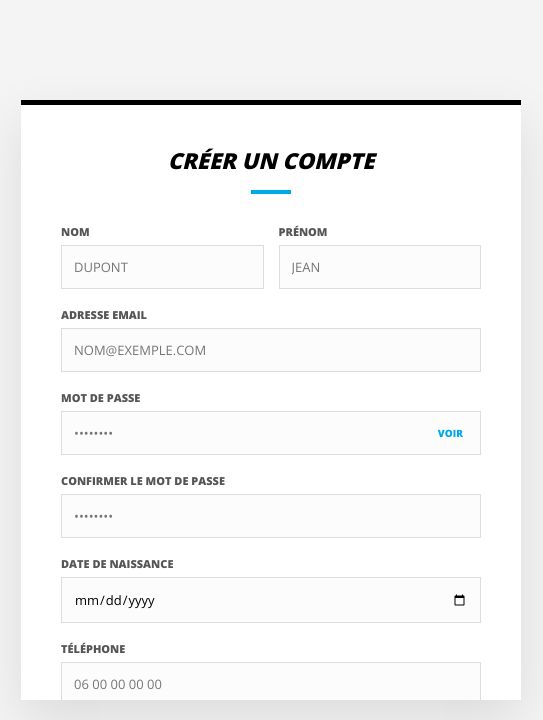
Scenario: CreateAcomptView.vue › passe à l'étape 2 (Vérification) après une soumission valide
In the field with placeholder "NOM@EXEMPLE.COM": (271, 350) [61,328,481,372], type "nouveau@cube.com"
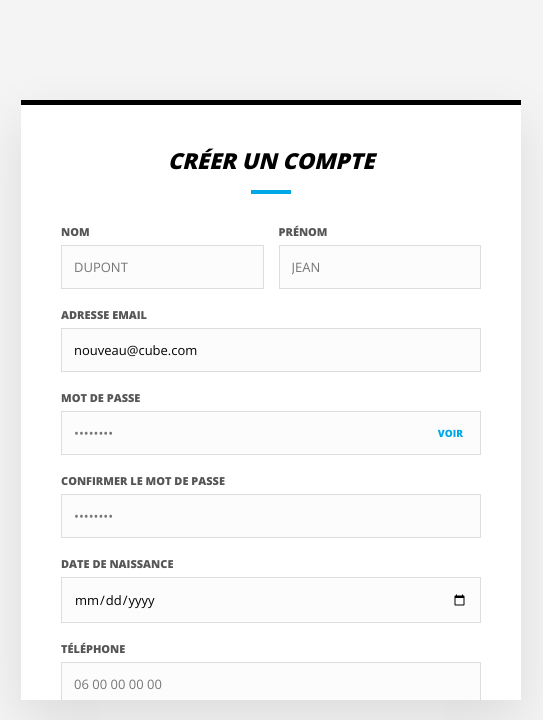
In the field with placeholder "JEAN": (380, 267) [278,245,481,289], type "Jean"
(page scrolled)
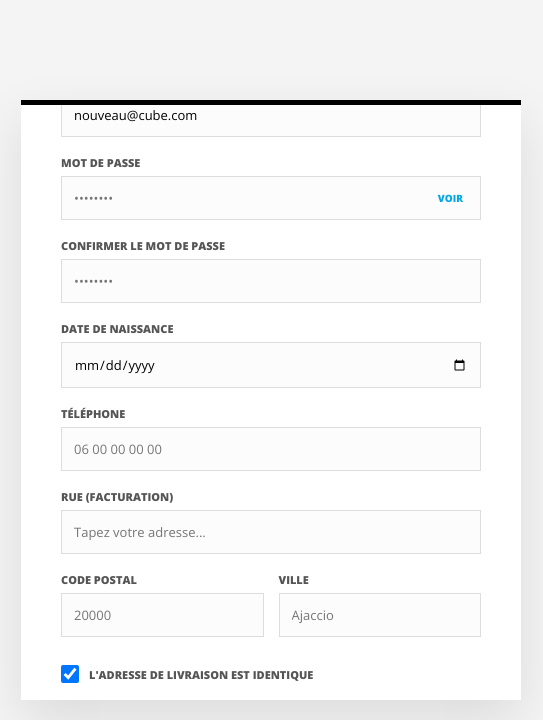
Submit the form
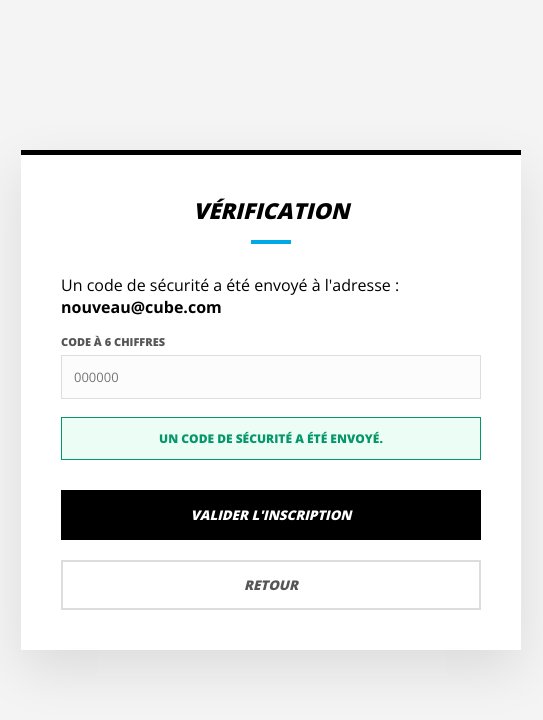
Expected: the text "VÉRIFICATION" is shown, [193,195,349,225]
